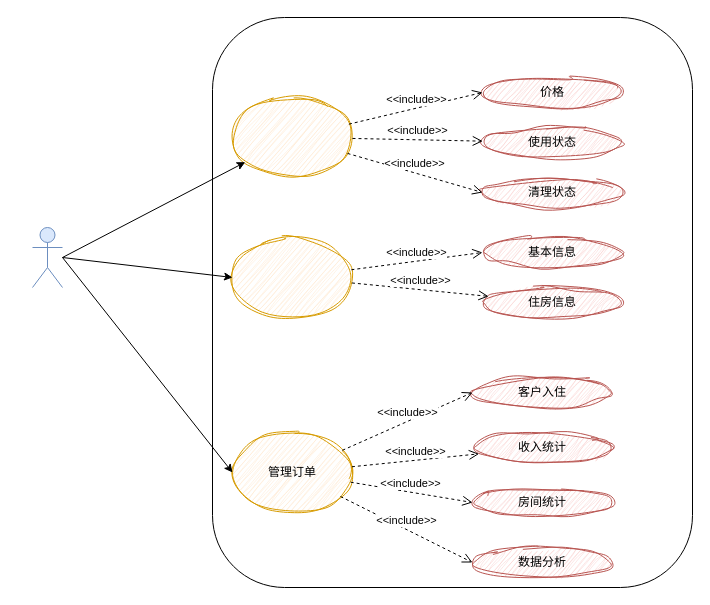
The diagram is 710 pixels wide and 605 high, and some of its shapes have lost their labels. The centre of each missing label's shape, as x and y in pixels:
管理客户: (x=292, y=277)
管理房间: (x=292, y=137)
系统管理员: (x=47, y=257)
